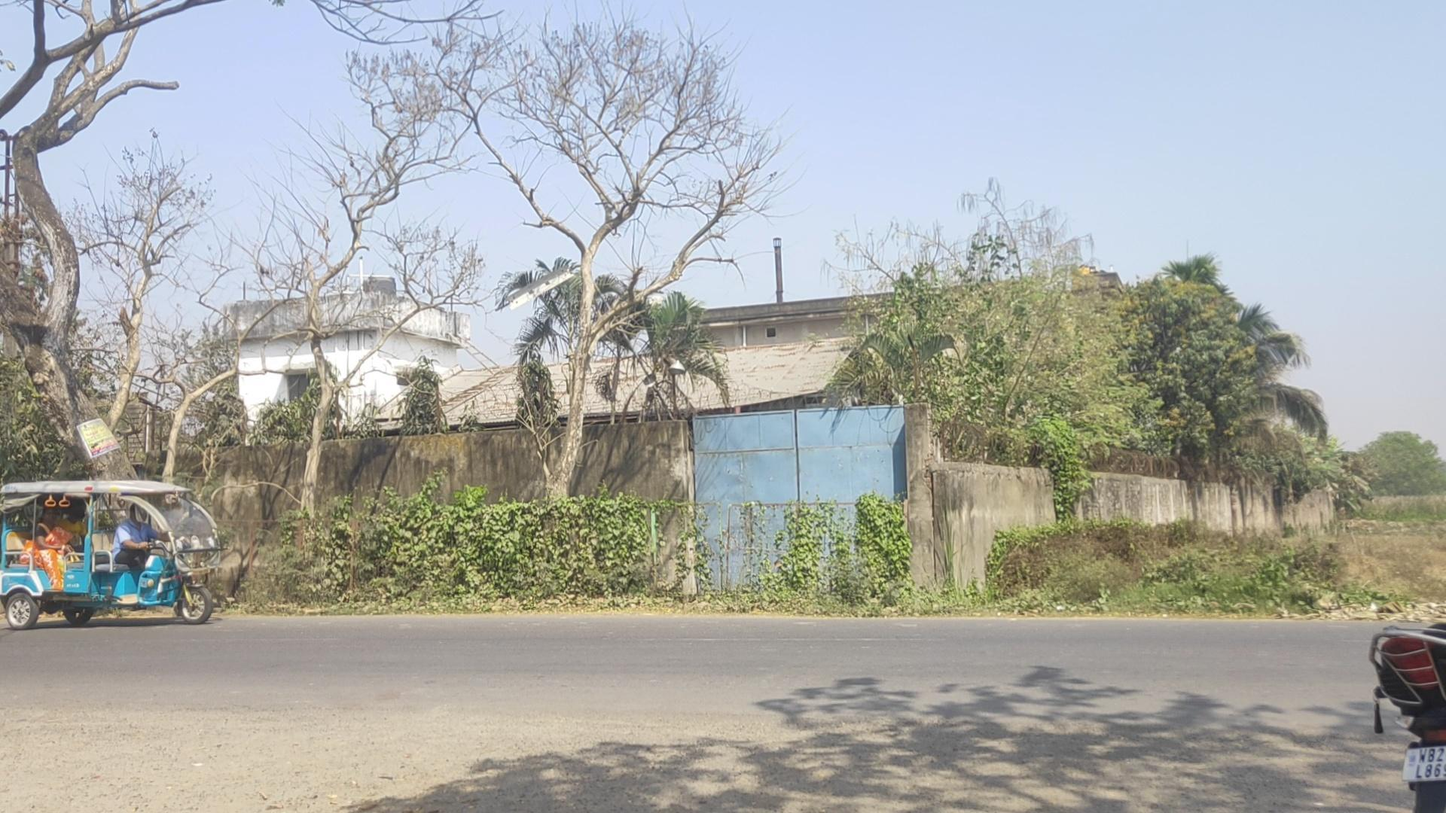Auto: (1, 480, 224, 631)
